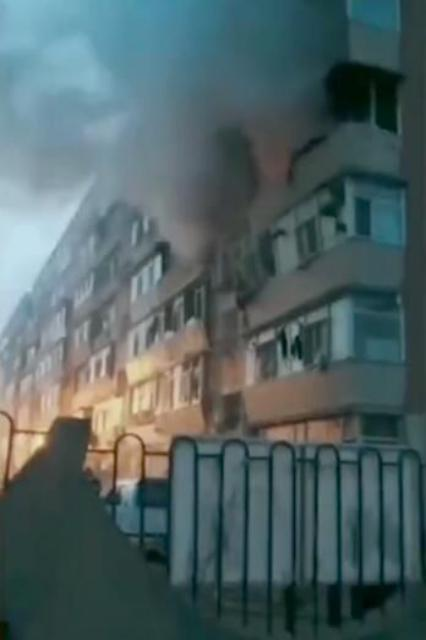smoke: (3, 0, 325, 145), (140, 144, 272, 233)
